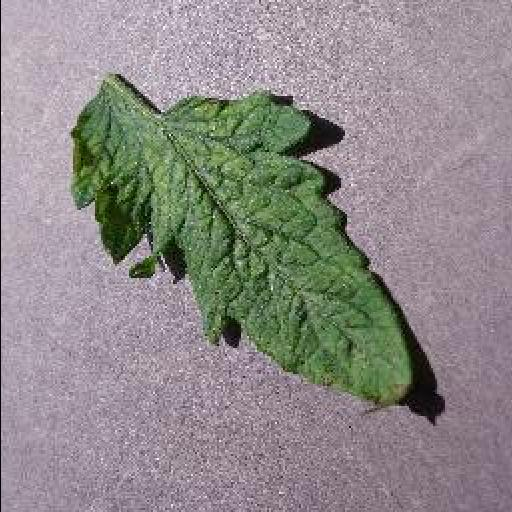disease_tomato: (66, 84, 412, 412)
